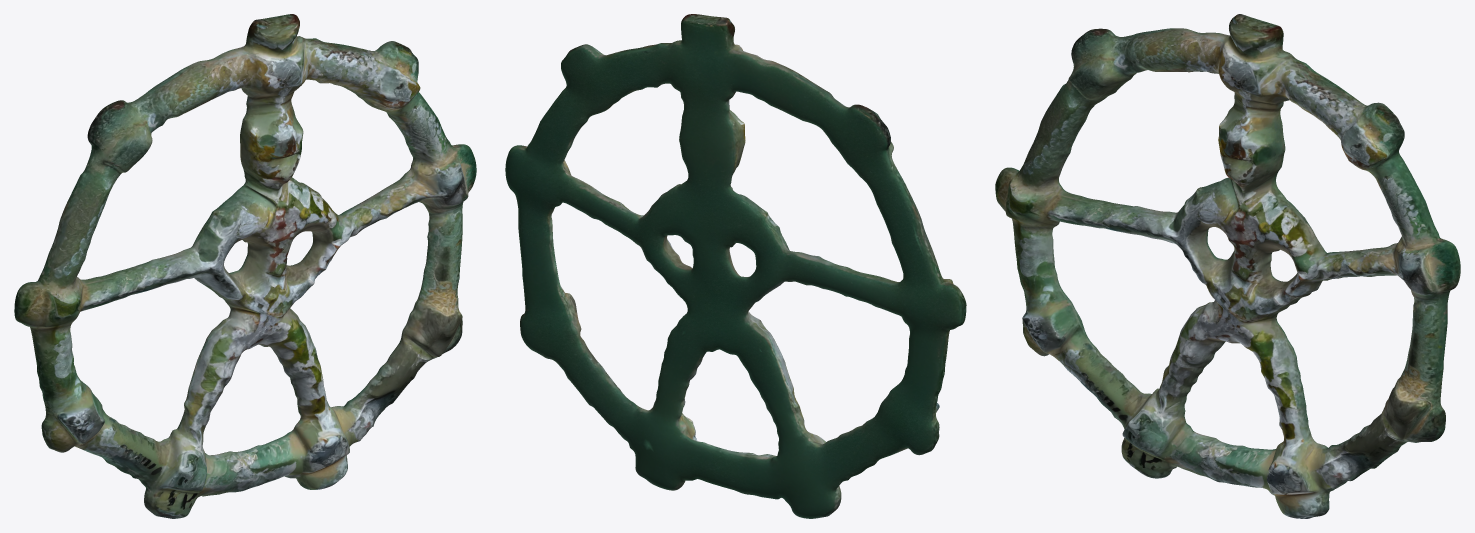
File: 036-bronzovaya-kolesovidnaya-podveska.glb
3 views of the same model, side by side, from view 1: azimuth 30°, elevation 25°; view 2: azimuth 150°, elevation 25°; view 3: azimuth 330°, elevation 25° (orthographic).
Visible parts, largest first — view 1: node_0; view 2: node_0; view 3: node_0.
Part boxes in pixels (x1=…): node_0: x1=14, y1=14, x2=476, y2=518; node_0: x1=505, y1=14, x2=966, y2=518; node_0: x1=995, y1=14, x2=1460, y2=518.
Size of the model in its own units: 1.12 by 1.13 by 0.1048.
Materials: 1 (1 with a texture image).
